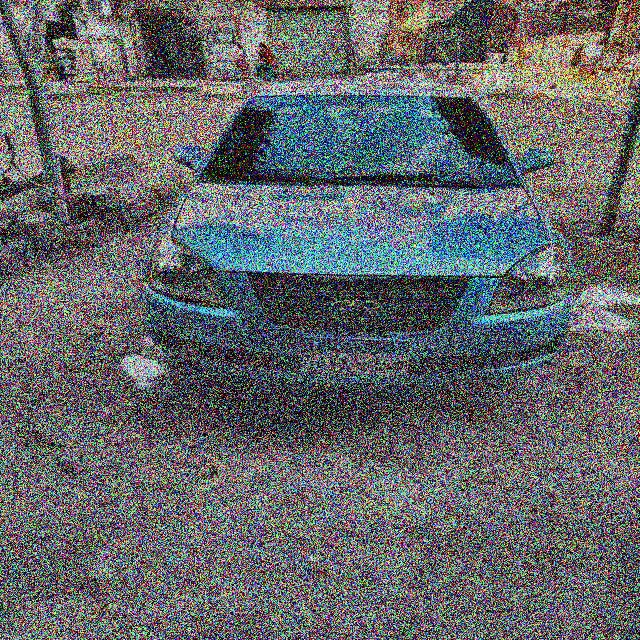License Plate: (298, 334, 412, 378)
